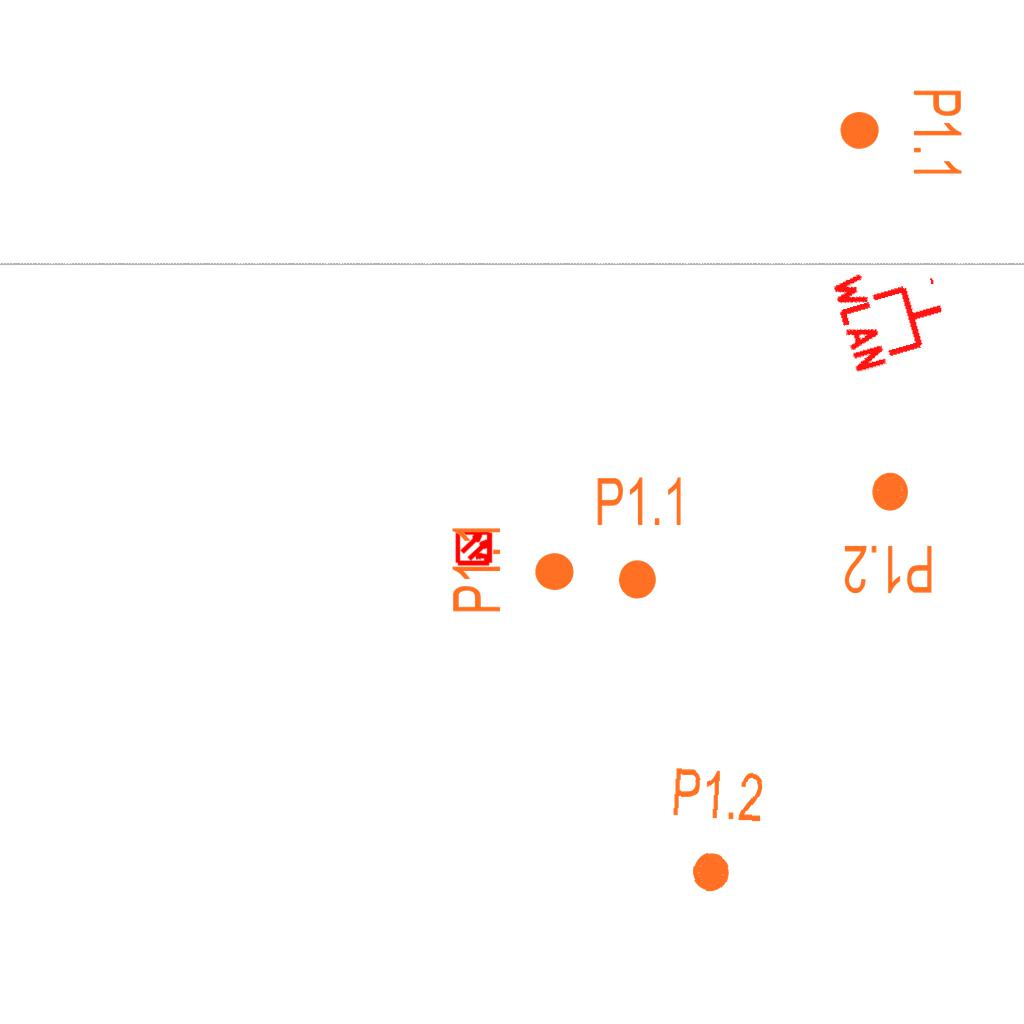Downlight_LED_Einbauleuchten_Flur: (664, 763, 767, 899), (594, 474, 687, 602), (842, 469, 935, 597), (837, 87, 965, 180), (449, 522, 577, 615)
OT_Multisensormelder_(Kombination_RMO_WMD): (447, 520, 503, 576)
WLAN: (827, 248, 958, 378)
